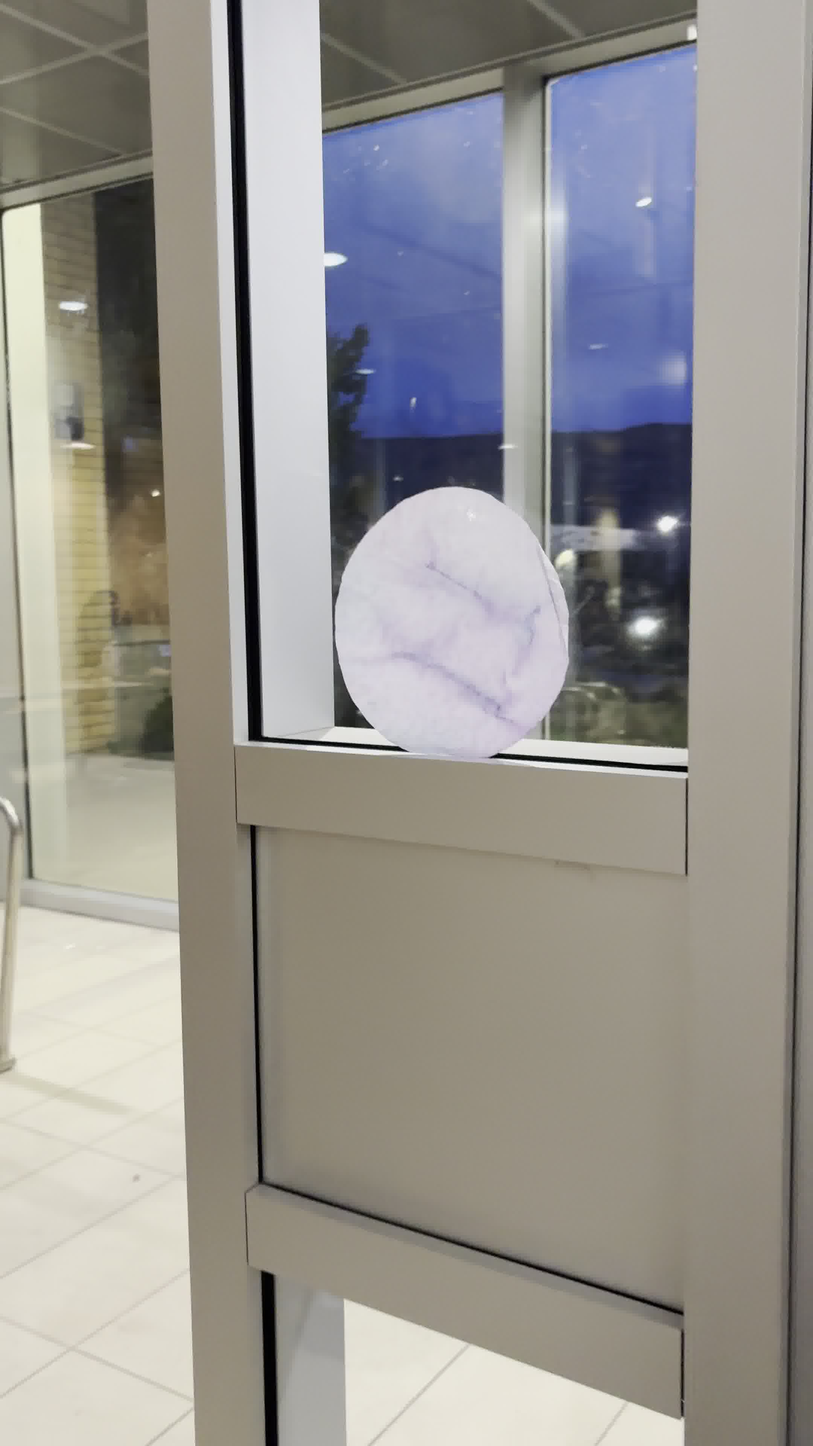Target: (332, 480, 571, 765)
